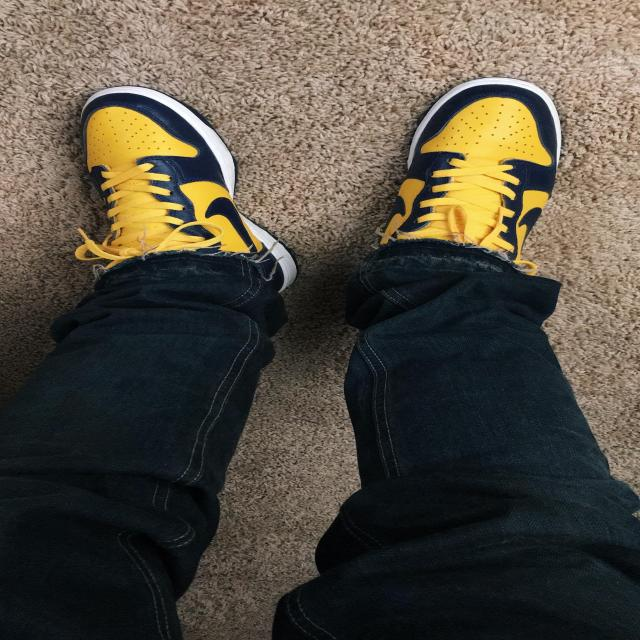shoe: (358, 105, 640, 380), (20, 64, 245, 322)
